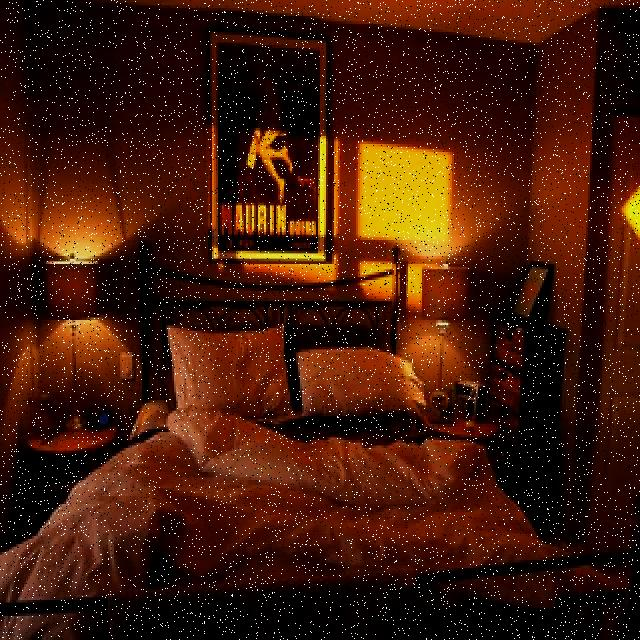bed: (4, 321, 596, 640)
